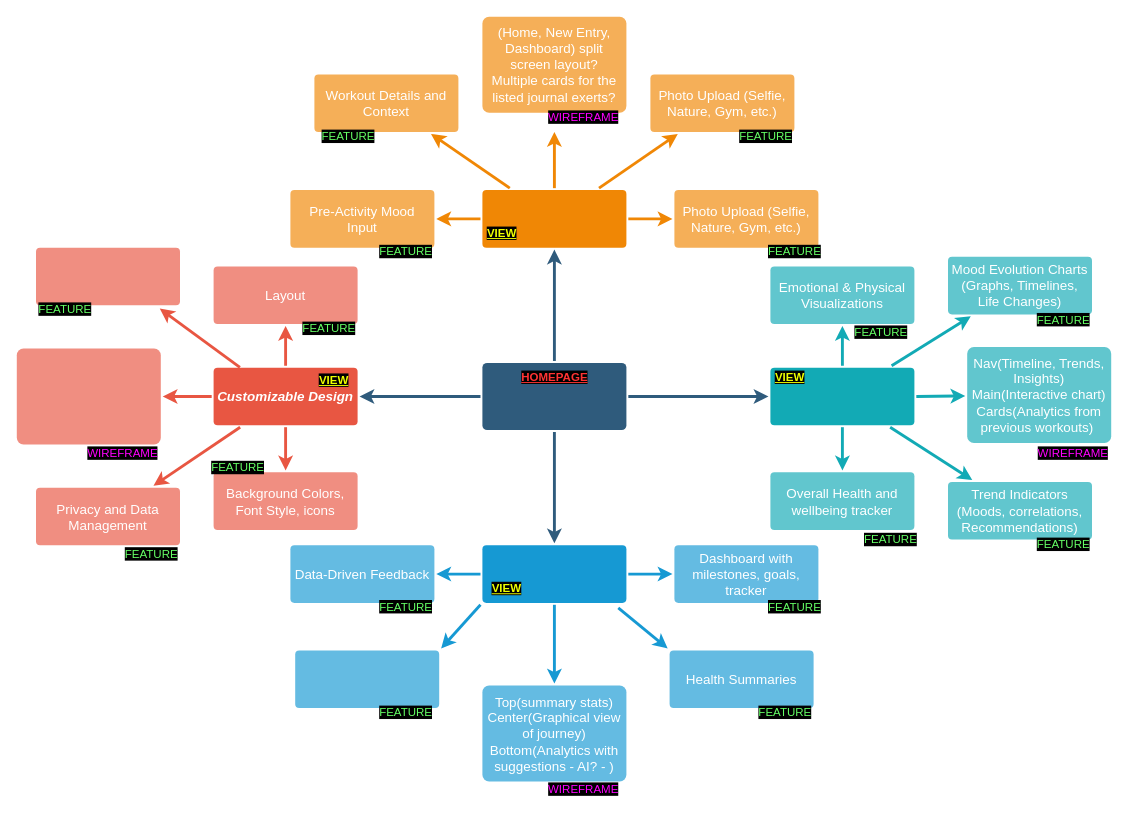
The diagram is 1137 pixels wide and 820 high, and some of its shapes have lost their labels. The shapes that lost their labels are listed below. From the top down, each one's box as (x1, y1, x2, y2) in pixels, then its label:
(482, 190, 626, 247): Journal Entry Creation
(16, 348, 160, 444): Settings button- full screen - (themes, export entries, )
(482, 362, 626, 430): VITA NOVA
(770, 367, 914, 425): Dashboard
(482, 545, 626, 602): Reflective Insights / Analytics
